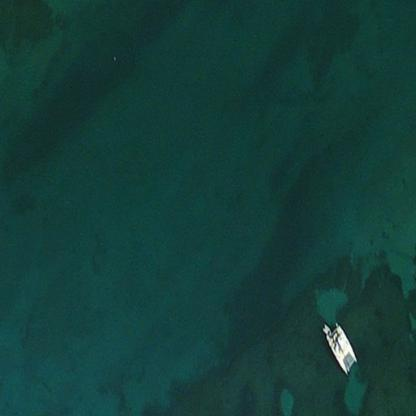ship: (318, 319, 357, 377)
